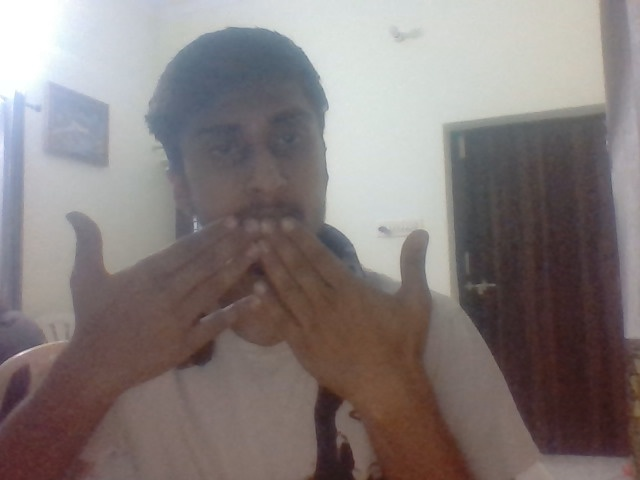ThankYou: (65, 211, 433, 381)
